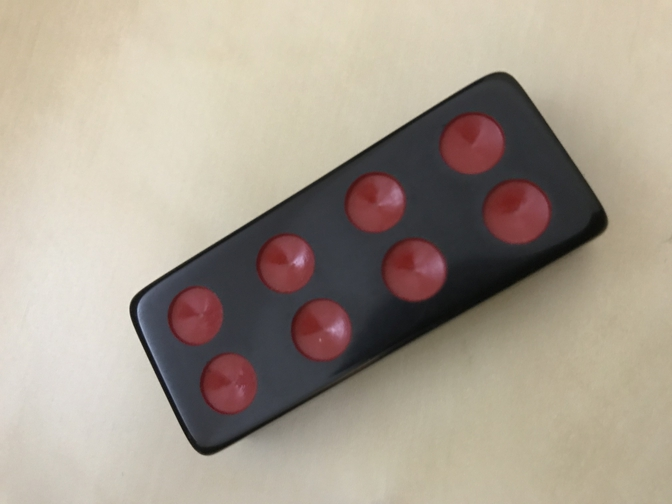man: (130, 71, 610, 456)
